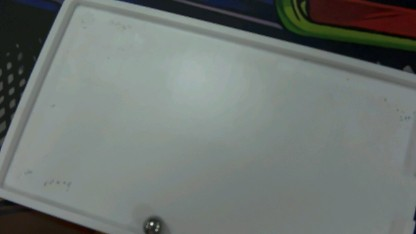ironball: (136, 205, 168, 233)
